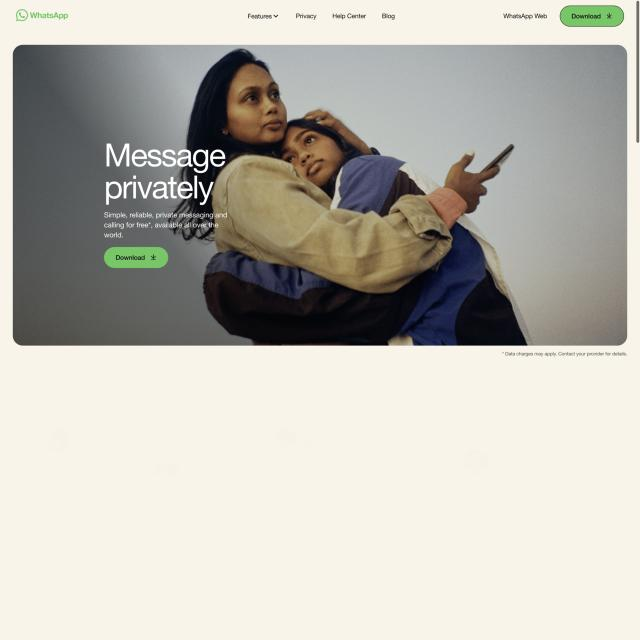logo: (13, 7, 71, 26)
navigation: (242, 9, 399, 27)
